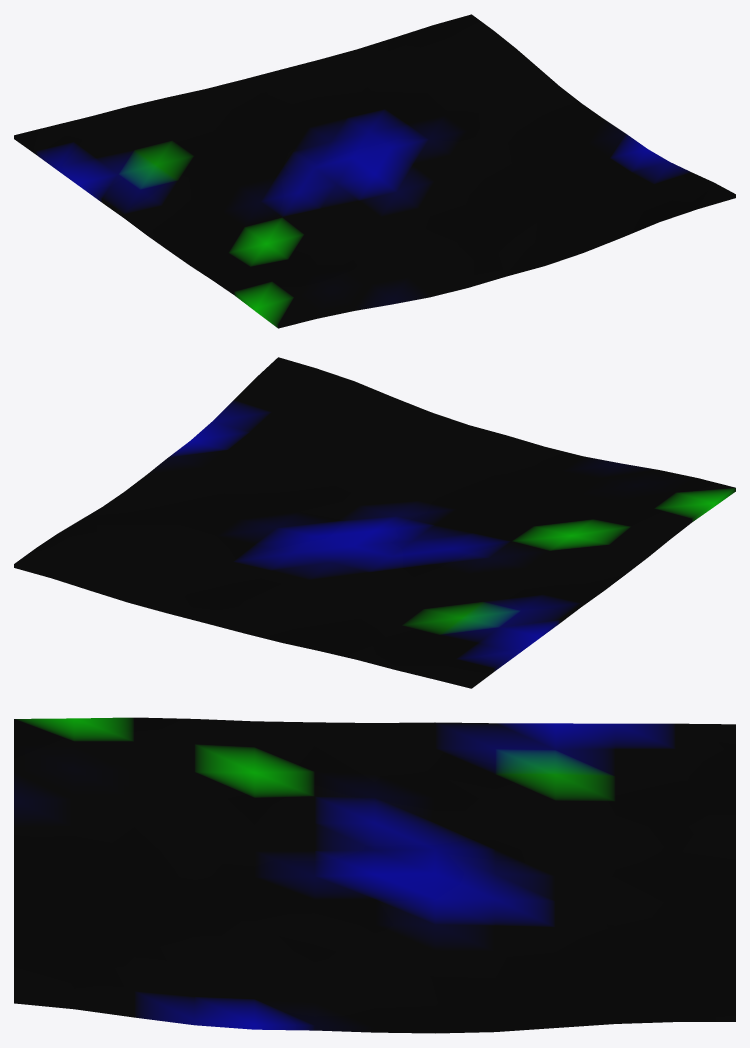
Rendered from coast_3_7.glb.
3 renders of one model, top to bottom at view 1: azimuth 30°, elevation 25°; view 2: azimuth 150°, elevation 25°; view 3: azimuth 270°, elevation 25°, orthographic. The views are drawn at different scales.
Visible parts, largest first — view 1: terrain; view 2: terrain; view 3: terrain.
Boxes of the visible parts, box(x1,y1,x2,y2) form: terrain: box(14, 14, 735, 328); terrain: box(14, 357, 735, 688); terrain: box(14, 717, 735, 1033).
Bounding box in the file's own units: 192 × 11.4 × 192.
